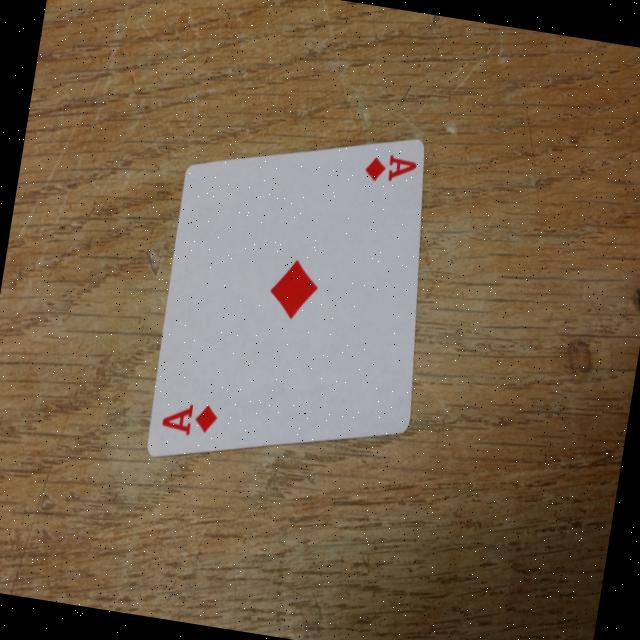Ad: (150, 379, 234, 456), (355, 132, 428, 204)
